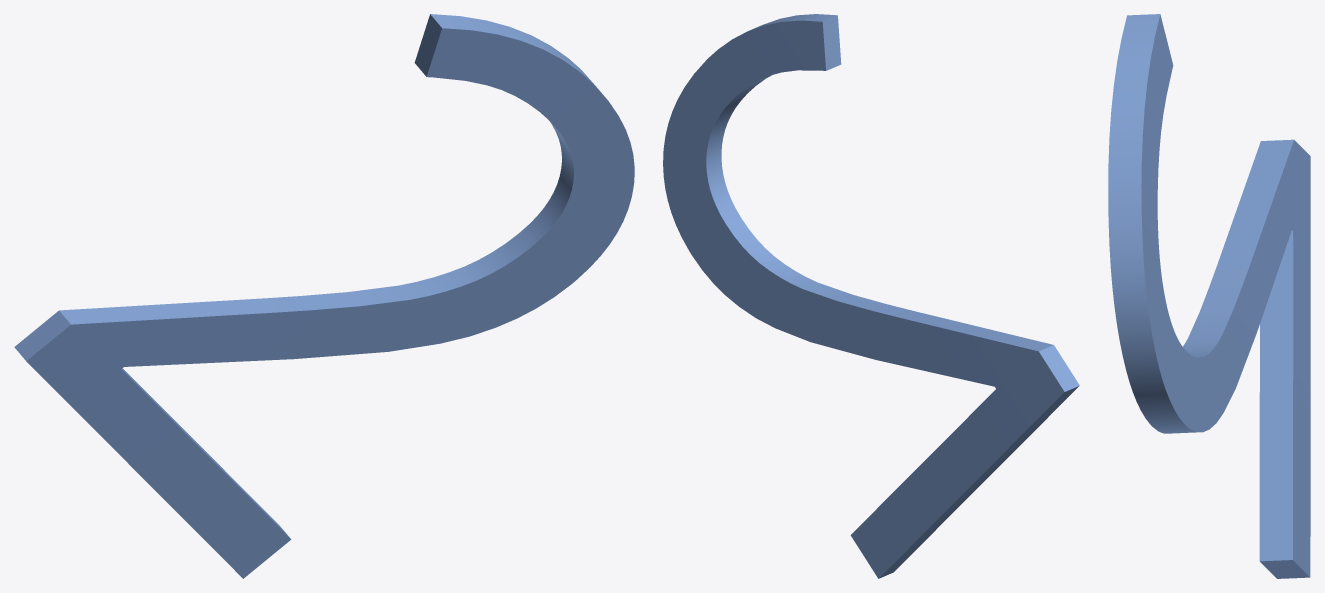
File: New_Number_2.gltf
3 renders of one model, left to right at view 1: azimuth 30°, elevation 25°; view 2: azimuth 150°, elevation 25°; view 3: azimuth 270°, elevation 25°, orthographic. The views are drawn at different scales.
Parts seen in each view (by area): view 1: Part 92; view 2: Part 92; view 3: Part 92.
Boxes of the visible parts, x1,y1,x2,y2 form: Part 92: [14, 14, 634, 578]; Part 92: [663, 14, 1079, 578]; Part 92: [1108, 14, 1310, 578].
Bounding box in the file's own units: 0.0053 × 0.00535 × 0.00154.
